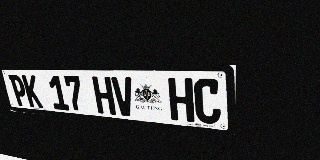1: (47, 75, 70, 111)
7: (63, 76, 86, 112)
C: (194, 78, 221, 125)
H: (168, 78, 195, 122), (92, 76, 116, 115)
K: (21, 75, 43, 108)
P: (8, 75, 30, 107)
V: (111, 77, 136, 117)
